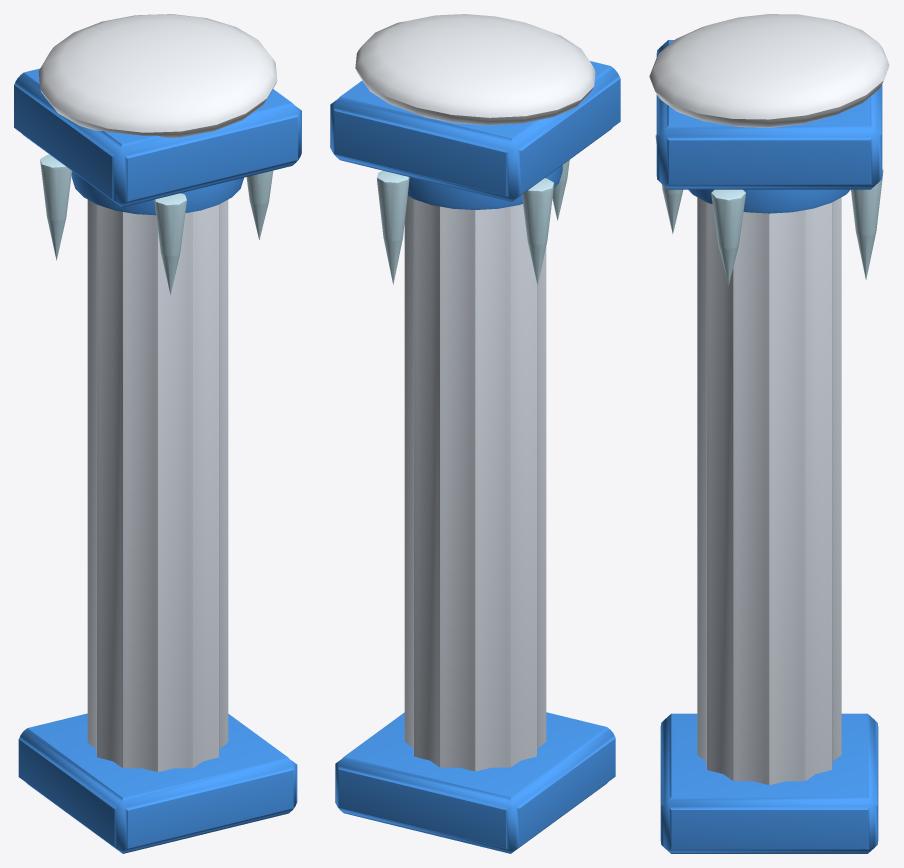
The model's file is TempleColumn.glb.
The picture shows the model from 3 angles, left to right: view 1: azimuth 30°, elevation 25°; view 2: azimuth 150°, elevation 25°; view 3: azimuth 270°, elevation 25°; orthographic projection. The views are drawn at different scales.
Visible parts, largest first — view 1: TempleColumn; view 2: TempleColumn; view 3: TempleColumn.
Part boxes in pixels (x1=…): TempleColumn: x1=14, y1=14, x2=301, y2=853; TempleColumn: x1=330, y1=14, x2=620, y2=853; TempleColumn: x1=649, y1=14, x2=889, y2=853.
Bounding box in the file's own units: 6.16 × 21.12 × 5.96.
Materials: 1 (1 with a texture image).
